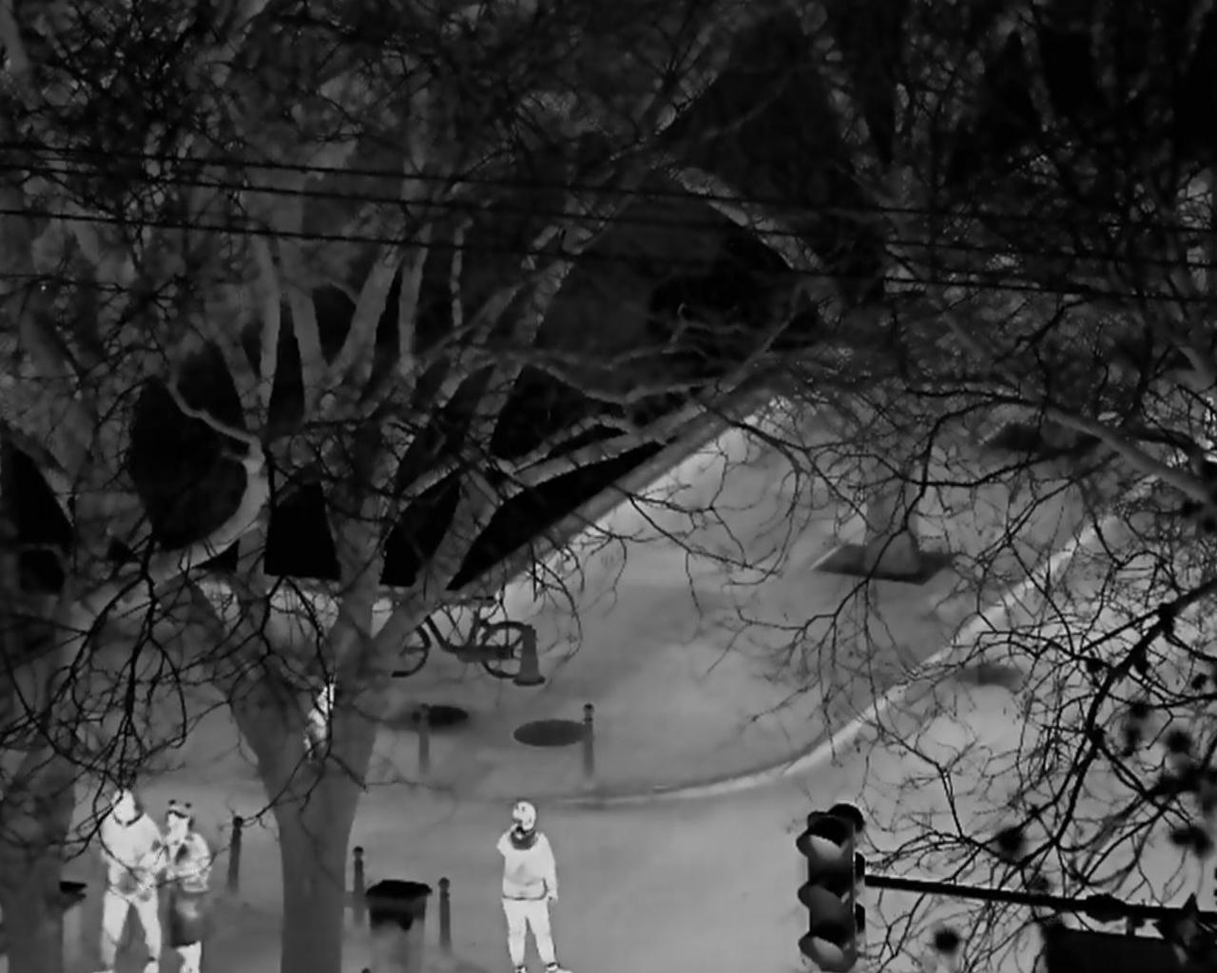person: (97, 789, 164, 973), (494, 799, 561, 973), (161, 797, 211, 973)
